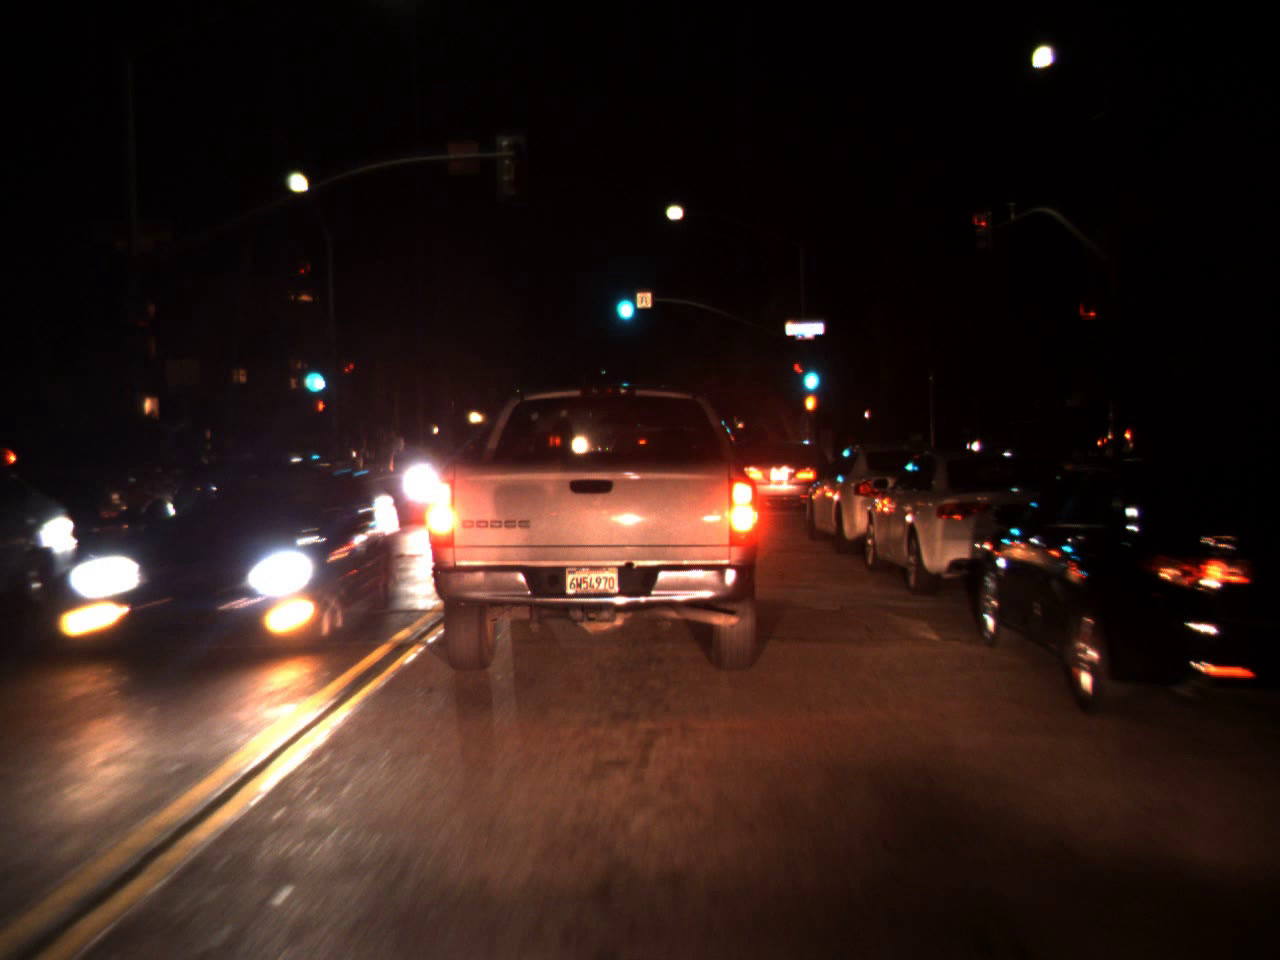go: (610, 275, 638, 326), (797, 349, 822, 397), (300, 351, 327, 396)
